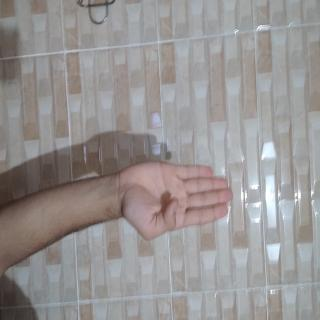KAAF: (116, 109, 182, 273)
